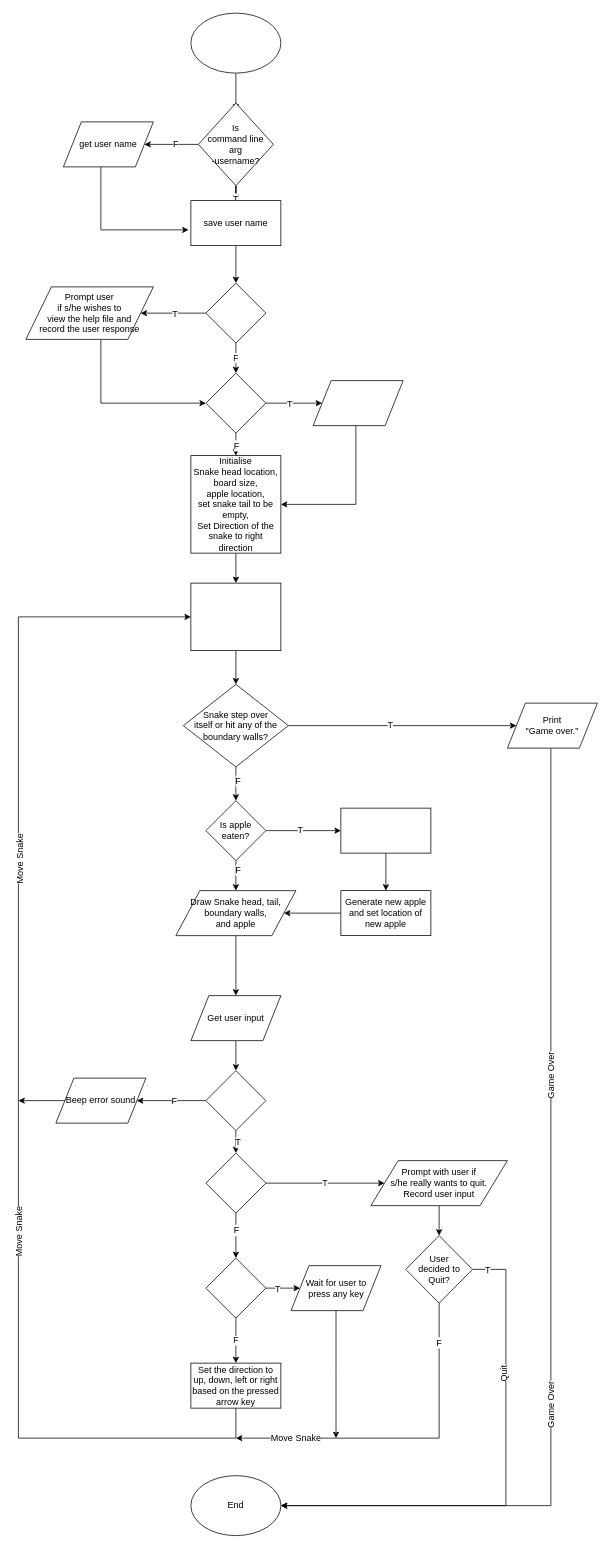
The diagram is 611 pixels wide and 1549 high, and some of its shapes have lost their labels. Here are the shapes that lost their labels. From the top down, the box of each, then its label:
(190, 12, 281, 73): Start
(205, 282, 266, 343): Is command line arg -help?
(205, 372, 266, 433): User selected to view help?
(312, 380, 403, 426): Show contents of help.txt
(190, 582, 281, 651): Move Snake head and tail one step in the set direction
(340, 807, 431, 853): Grow snake tail by one unit
(205, 1070, 266, 1131): Is valid key?
(205, 1152, 266, 1213): Is "Q" or "q"
(205, 1257, 266, 1318): Is "P" or "p"
